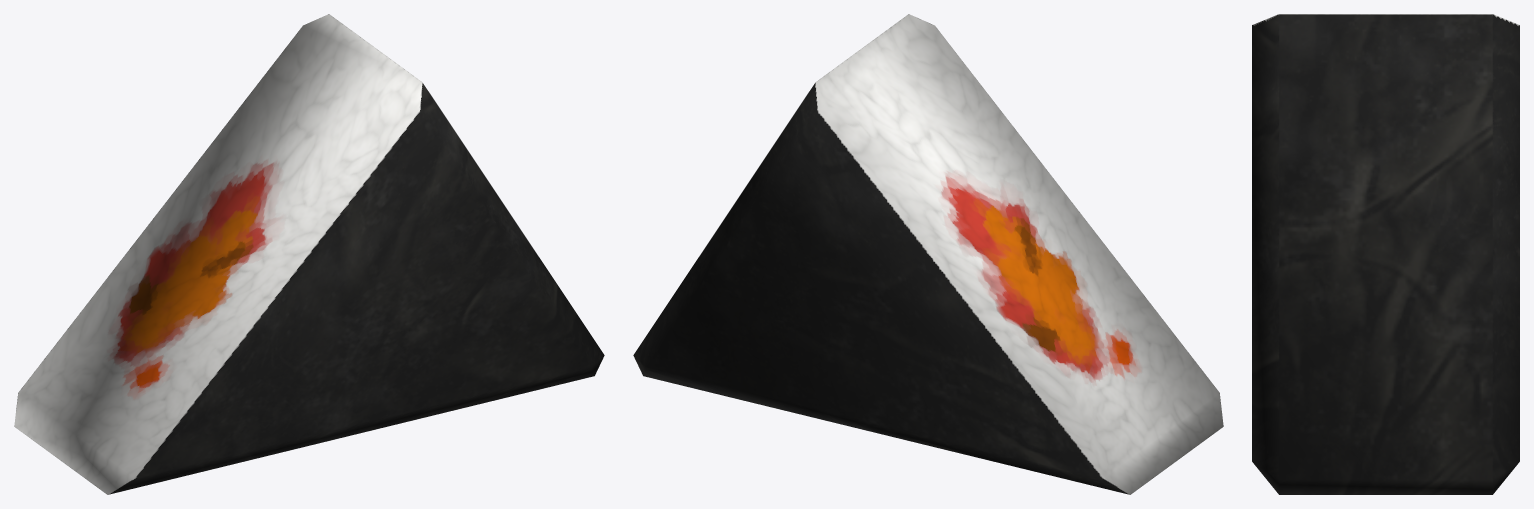
The model's file is onigiri_2.fbx.
3 views of the same model, side by side, from view 1: azimuth 30°, elevation 25°; view 2: azimuth 150°, elevation 25°; view 3: azimuth 270°, elevation 25° (orthographic). The views are drawn at different scales.
Parts seen in each view (by area): view 1: Cube.002; view 2: Cube.002; view 3: Cube.002.
Boxes of the visible parts, left/top/right/bottom form: Cube.002: left=14, top=14, right=604, bottom=494; Cube.002: left=633, top=14, right=1223, bottom=494; Cube.002: left=1252, top=14, right=1519, bottom=494.
Bounding box in the file's own units: 10.06 × 6.5 × 4.1.
